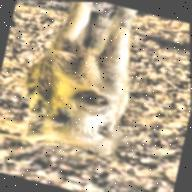boar: (6, 0, 150, 170)
